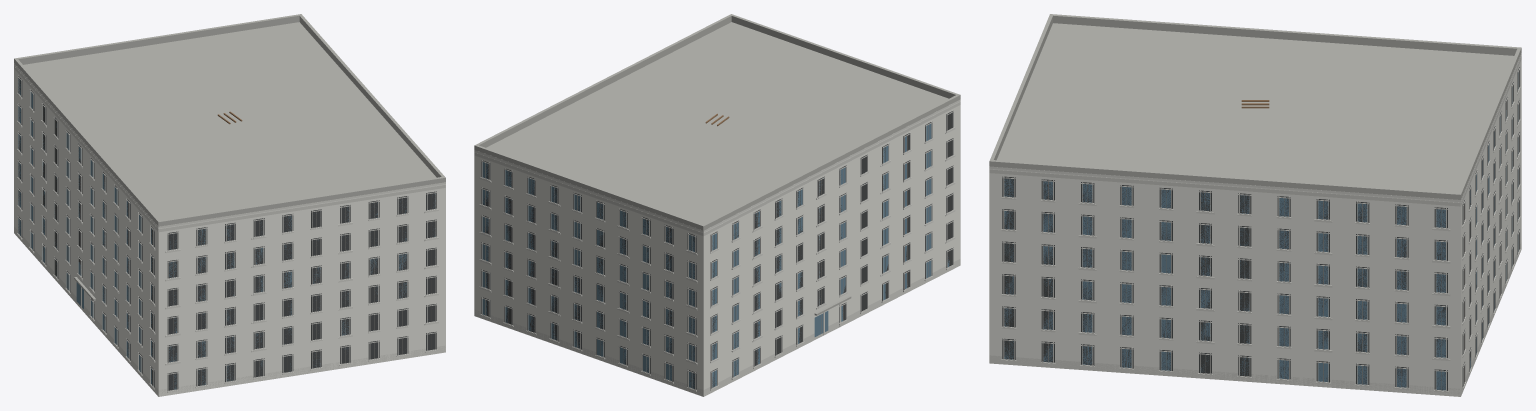
Rendered from cop_residencial_compacto_05__way_134013929.fbx.
3 views of the same model, side by side, from view 1: azimuth 30°, elevation 25°; view 2: azimuth 150°, elevation 25°; view 3: azimuth 270°, elevation 25° (orthographic). The views are drawn at different scales.
Visible parts, largest first — view 1: cop_residencial_compacto_05__way_134013929_roof, cop_residencial_compacto_05__way_134013929_wall, cop_residencial_compacto_05__way_134013929_shadow, cop_residencial_compacto_05__way_134013929_trim, cop_residencial_compacto_05__way_134013929_stone, cop_residencial_compacto_05__way_134013929_glass, cop_residencial_compacto_05__way_134013929_metal; view 2: cop_residencial_compacto_05__way_134013929_wall, cop_residencial_compacto_05__way_134013929_roof, cop_residencial_compacto_05__way_134013929_shadow, cop_residencial_compacto_05__way_134013929_trim, cop_residencial_compacto_05__way_134013929_glass, cop_residencial_compacto_05__way_134013929_stone, cop_residencial_compacto_05__way_134013929_metal; view 3: cop_residencial_compacto_05__way_134013929_wall, cop_residencial_compacto_05__way_134013929_roof, cop_residencial_compacto_05__way_134013929_shadow, cop_residencial_compacto_05__way_134013929_glass, cop_residencial_compacto_05__way_134013929_trim, cop_residencial_compacto_05__way_134013929_stone, cop_residencial_compacto_05__way_134013929_metal.
Part boxes in pixels (<box>): cop_residencial_compacto_05__way_134013929_roof: <box>14,14,445,300</box>; cop_residencial_compacto_05__way_134013929_wall: <box>14,65,445,396</box>; cop_residencial_compacto_05__way_134013929_shadow: <box>18,76,436,390</box>; cop_residencial_compacto_05__way_134013929_trim: <box>14,66,445,391</box>; cop_residencial_compacto_05__way_134013929_stone: <box>14,63,445,396</box>; cop_residencial_compacto_05__way_134013929_glass: <box>18,78,435,389</box>; cop_residencial_compacto_05__way_134013929_metal: <box>19,79,431,389</box>; cop_residencial_compacto_05__way_134013929_wall: <box>474,101,960,396</box>; cop_residencial_compacto_05__way_134013929_roof: <box>474,14,960,315</box>; cop_residencial_compacto_05__way_134013929_shadow: <box>481,111,953,389</box>; cop_residencial_compacto_05__way_134013929_trim: <box>474,102,960,390</box>; cop_residencial_compacto_05__way_134013929_glass: <box>482,124,949,388</box>; cop_residencial_compacto_05__way_134013929_stone: <box>474,99,960,396</box>; cop_residencial_compacto_05__way_134013929_metal: <box>485,114,950,387</box>; cop_residencial_compacto_05__way_134013929_wall: <box>989,56,1521,396</box>; cop_residencial_compacto_05__way_134013929_roof: <box>989,14,1521,199</box>; cop_residencial_compacto_05__way_134013929_shadow: <box>1002,67,1519,390</box>; cop_residencial_compacto_05__way_134013929_glass: <box>1004,72,1518,390</box>; cop_residencial_compacto_05__way_134013929_trim: <box>989,56,1521,391</box>; cop_residencial_compacto_05__way_134013929_stone: <box>989,53,1521,396</box>; cop_residencial_compacto_05__way_134013929_metal: <box>1009,72,1518,389</box>.
Bounding box in the file's own units: 3586 × 1877 × 4459.
